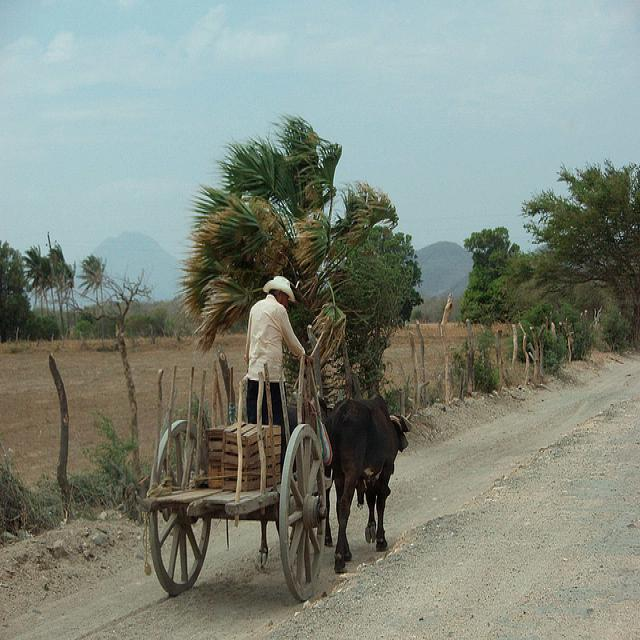cow: (323, 389, 412, 572)
